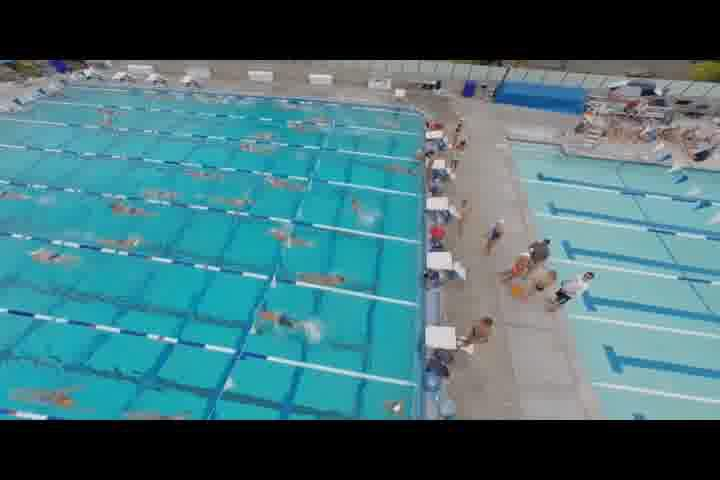human: (258, 313, 316, 334), (296, 270, 342, 287)
